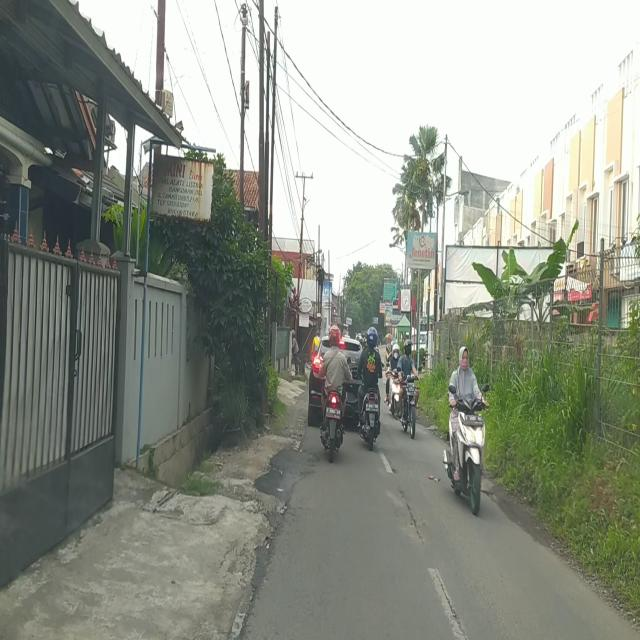Drain Hole: (428, 564, 462, 630), (402, 484, 423, 549)
